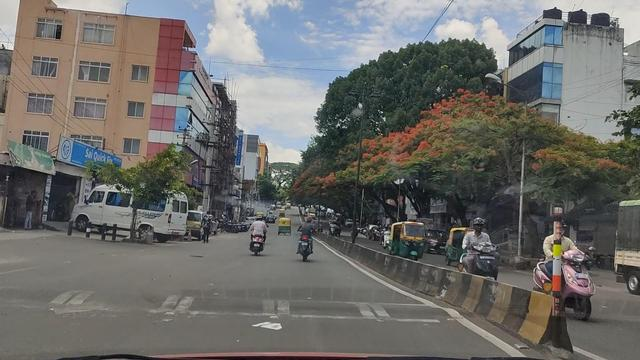SpeedBump: (0, 288, 450, 324)
